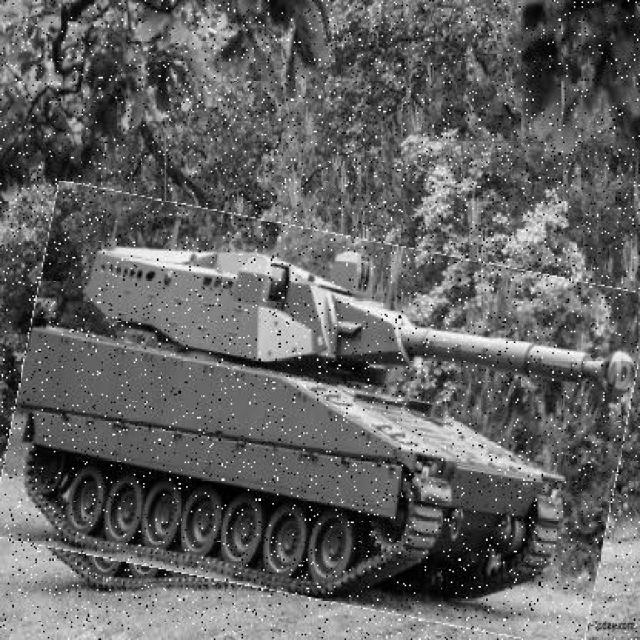Tank: (6, 209, 637, 624)
